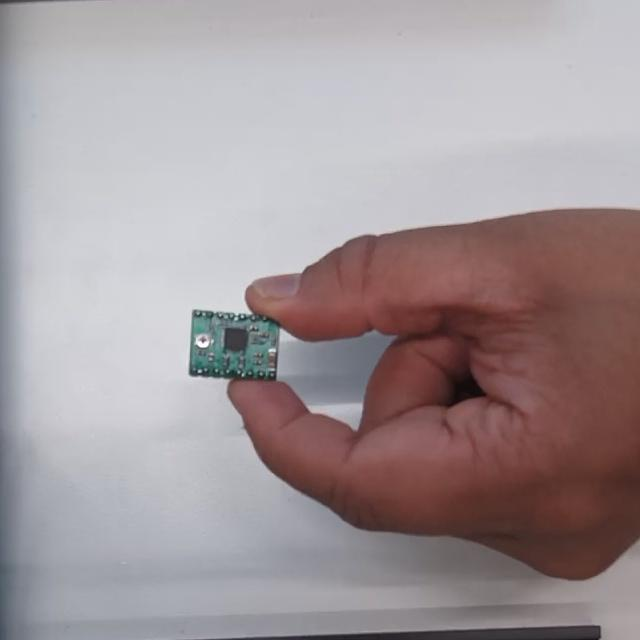Chip: (188, 308, 287, 382)
